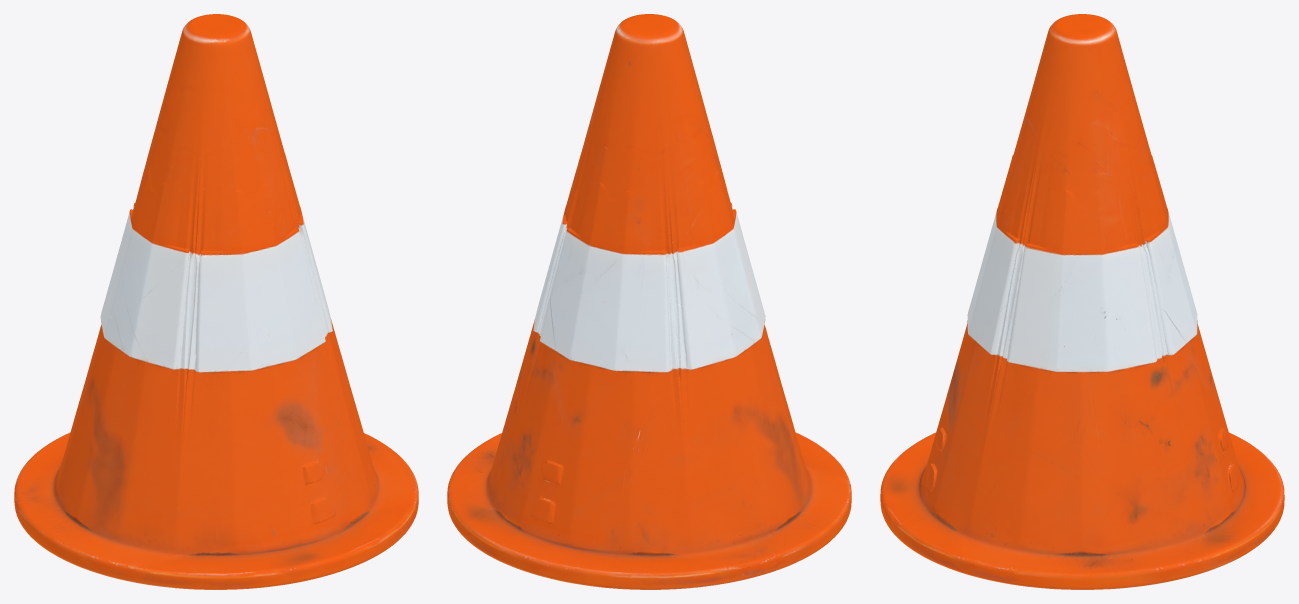
File: traffic-cone-compressed.glb
3 views of the same model, side by side, from view 1: azimuth 30°, elevation 25°; view 2: azimuth 150°, elevation 25°; view 3: azimuth 270°, elevation 25° (orthographic).
Bounding box in the file's own units: 1.44 × 1.9 × 1.44.
Materials: 1 (1 with a texture image).
